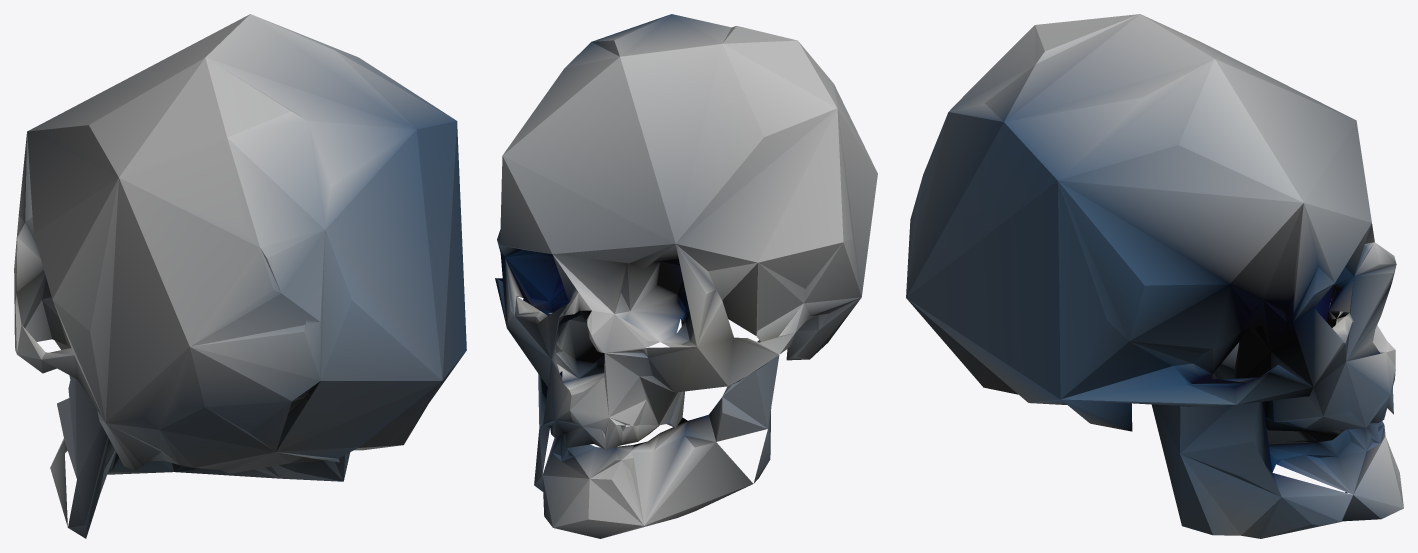
Rendered from skull.gltf.
3 renders of one model, left to right at view 1: azimuth 30°, elevation 25°; view 2: azimuth 150°, elevation 25°; view 3: azimuth 270°, elevation 25°, orthographic. The views are drawn at different scales.
Parts seen in each view (by area): view 1: test; view 2: test; view 3: test.
Boxes of the visible parts, x1,y1,x2,y2 form: test: [14, 14, 466, 538]; test: [495, 14, 877, 538]; test: [906, 14, 1403, 538].
Bounding box in the file's own units: 47.58 × 61.5 × 58.37.
